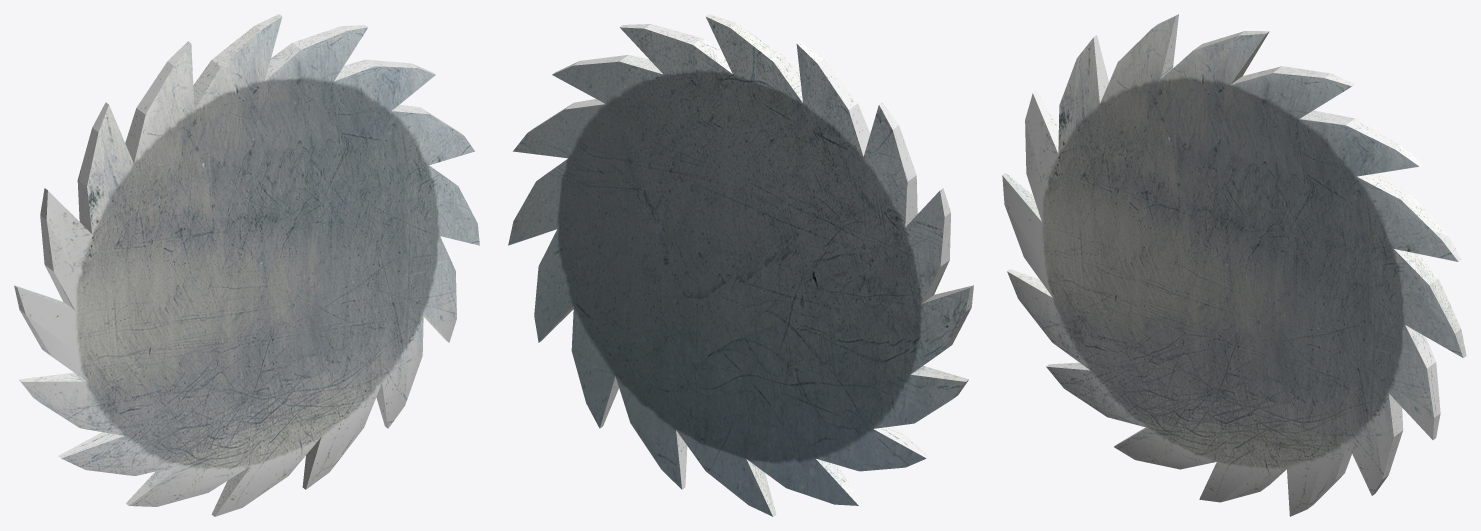
The model's file is sierra.fbx.
The picture shows the model from 3 angles, left to right: view 1: azimuth 30°, elevation 25°; view 2: azimuth 150°, elevation 25°; view 3: azimuth 330°, elevation 25°; orthographic projection.
Parts seen in each view (by area): view 1: sierra4; view 2: sierra4; view 3: sierra4.
Boxes of the visible parts, x1,y1,x2,y2 form: sierra4: (14, 14, 479, 516); sierra4: (508, 14, 973, 516); sierra4: (1002, 14, 1466, 516).
Size of the model in its own units: 203 by 203 by 9.61.
